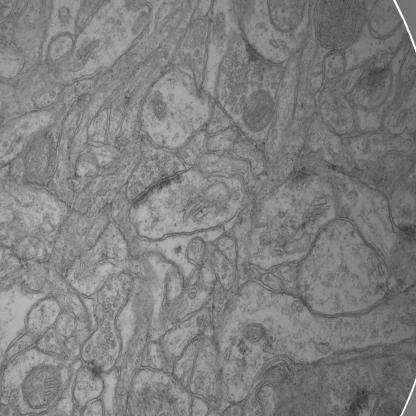mitochondria: (312, 0, 368, 54), (20, 360, 63, 409), (18, 132, 57, 184), (240, 89, 278, 138), (265, 0, 309, 35), (243, 322, 270, 346)
